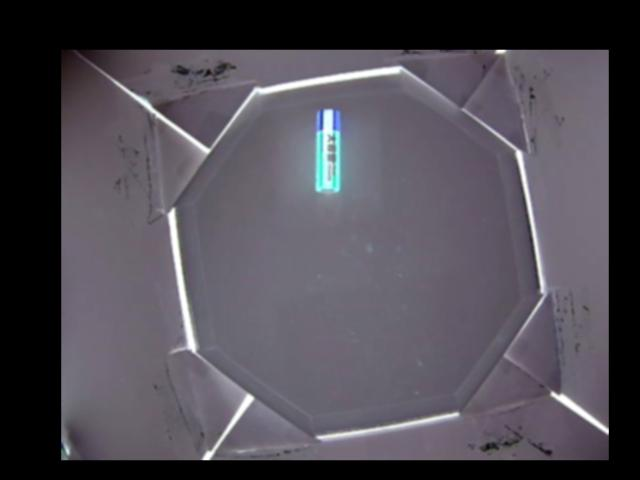Battery: (315, 107, 339, 193)
